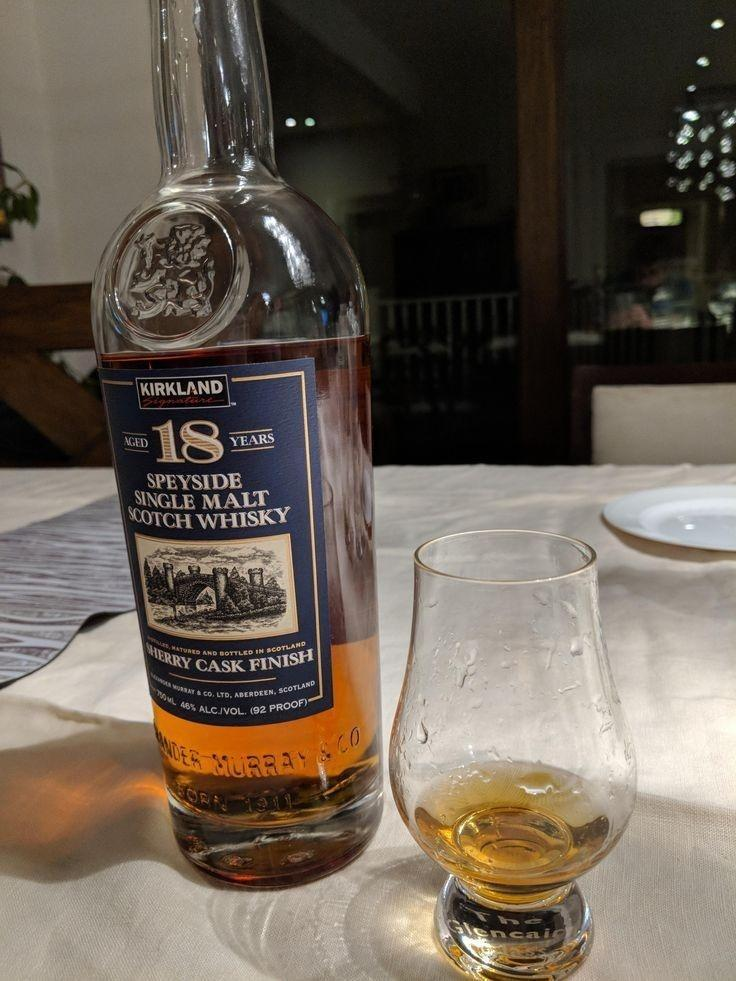bottle-glass: (91, 0, 393, 897)
glass-wine: (389, 524, 645, 981)
